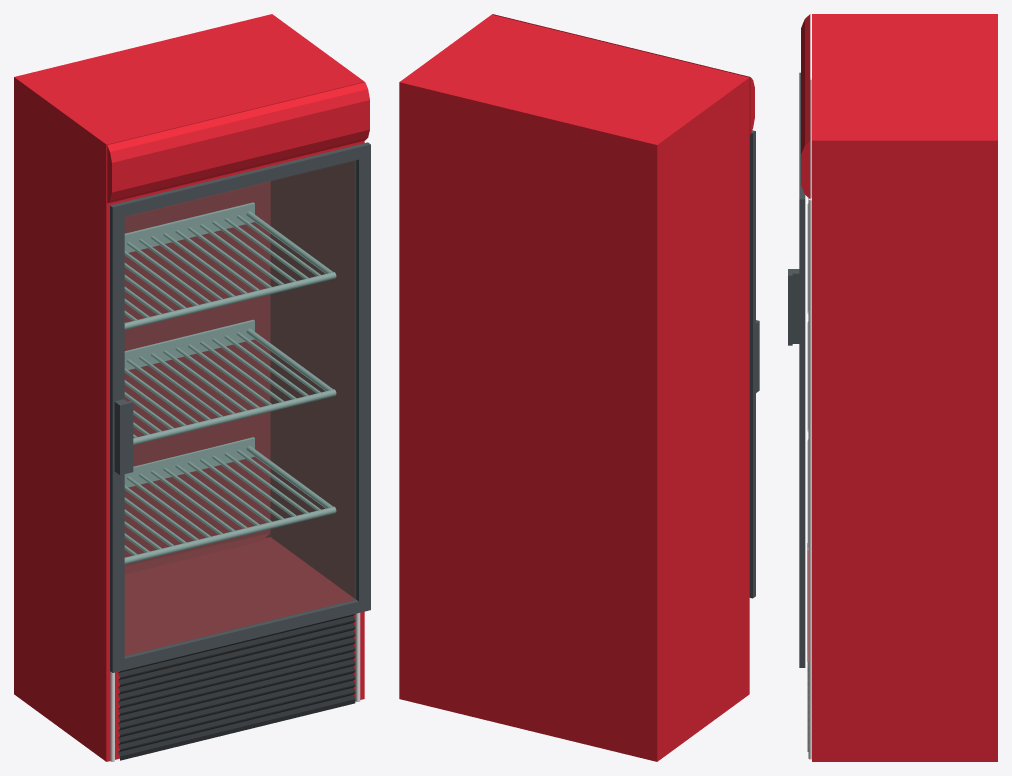
File: SM_fridge_drinks_04.fbx
3 renders of one model, left to right at view 1: azimuth 30°, elevation 25°; view 2: azimuth 150°, elevation 25°; view 3: azimuth 270°, elevation 25°, orthographic.
Visible parts, largest first — view 1: fridge_drinks_04; view 2: fridge_drinks_04; view 3: fridge_drinks_04.
Boxes of the visible parts, x1=… form: fridge_drinks_04: x1=14, y1=14, x2=370, y2=761; fridge_drinks_04: x1=399, y1=14, x2=759, y2=761; fridge_drinks_04: x1=788, y1=14, x2=997, y2=761.
Size of the model in its own units: 108 by 247 by 75.7.
